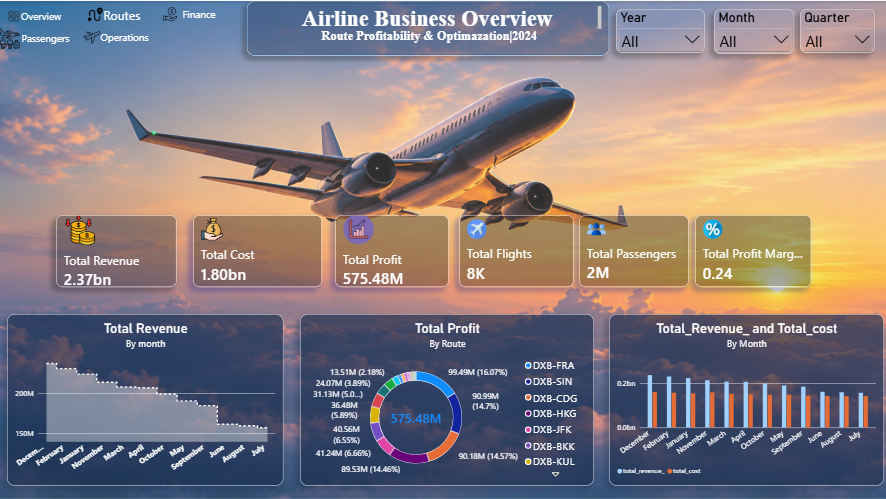

Layout of this report page (visuals, bound fields, positions):
{"tool":"powerbi","page":{"name":"Airline Business Overview","canvas":[1920,1080],"ordinal":0},"visuals":[{"type":"cardVisual","fields":{"Data":["calculation_tbl.total_revenue_"]},"box":[123.1,461.5,260.6,155.6],"z":0},{"type":"actionButton","box":[169,10.6,169,36.1],"z":1000},{"type":"areaChart","title":"Total Revenue","fields":{"Category":["Dim_Date.Month"],"Y":["calculation_tbl.total_revenue_"]},"box":[18.1,676.8,597.2,371],"z":2000},{"type":"actionButton","box":[16.7,12.8,133.6,38.3],"z":3000},{"type":"donutChart","title":"Total Profit","fields":{"Category":["route_details.Route"],"Y":["Average Aircraft Capacity.total_profit"]},"box":[649.7,676.8,635.2,371],"z":4000},{"type":"image","box":[2.1,17,59.7,31.3],"z":5000},{"type":"clusteredColumnChart","title":"Total_Revenue_ and Total_cost","fields":{"Category":["Dim_Date.Month"],"Y":["calculation_tbl.total_revenue_","calculation_tbl.total_cost"]},"box":[1317.4,676.8,593.6,371],"z":6000},{"type":"textbox","box":[47.1,18.1,90.5,34.4],"z":7000},{"type":"cardVisual","fields":{"Data":["calculation_tbl.total_cost"]},"box":[418,461.5,278.7,155.6],"z":8000},{"type":"actionButton","box":[348.5,10.6,169,36.1],"z":9000},{"type":"cardVisual","fields":{"Data":["calculation_tbl.total_passengers"]},"box":[1252.3,461.5,237.1,155.6],"z":10000},{"type":"actionButton","box":[175.5,57.9,173.2,40.4],"z":11000},{"type":"shape","box":[535.7,0,781.8,117.6],"z":12000,"group":"g1"},{"type":"cardVisual","fields":{"Data":["calculation_tbl.total_flights"]},"box":[993.5,461.5,247.9,155.6],"z":12000},{"type":"textbox","box":[557.4,10.9,743.8,52.5],"z":13000,"group":"g1"},{"type":"actionButton","box":[10.4,63.8,139.8,48.9],"z":13000},{"type":"textbox","box":[649.7,59.7,535.7,32.6],"z":14000,"group":"g1"},{"type":"cardVisual","fields":{"Data":["calculation_tbl.total_profit"]},"box":[725.7,461.5,246.1,155.6],"z":14000},{"type":"textbox","box":[217.2,12.7,92.3,38],"z":15000},{"type":"cardVisual","fields":{"Data":["calculation_tbl.total_profit_margin"]},"box":[1503.8,461.5,251.5,155.6],"z":16000},{"type":"image","box":[187.8,10.6,39.7,36.1],"z":17000},{"type":"slicer","fields":{"Values":["Dim_Date.Year"]},"box":[1331.9,16.3,193.6,63.3],"z":18000},{"type":"textbox","box":[367.4,12.7,129.4,38.3],"z":19000},{"type":"slicer","fields":{"Values":["Dim_Date.Month"]},"box":[1543.6,16.3,173.7,63.3],"z":20000},{"type":"image","box":[352.7,0,35.5,57.4],"z":21000},{"type":"slicer","fields":{"Values":["Dim_Date.Quarter"]},"box":[1730,18.1,162.9,63.3],"z":22000},{"type":"textbox","box":[19.9,65.1,141.9,31.9],"z":23000},{"type":"image","box":[0,49.7,45.4,62.6],"z":24000},{"type":"group","id":"g1","title":"Group 2","box":[535.7,0,781.8,117.6],"z":25000},{"type":"textbox","box":[208.1,63.3,119,34],"z":26000},{"type":"image","box":[175.5,61.5,52.5,36.2],"z":27000}]}

Visuals, with their boxes in screenshot pixels (x1, y1, x2, y2), scaled from the page's 1920x1080 canvas onto the 886x499 screenshot:
cardVisual - calculation_tbl.total_revenue_: {"x1": 57, "y1": 213, "x2": 177, "y2": 285}
actionButton: {"x1": 78, "y1": 5, "x2": 156, "y2": 22}
"Total Revenue" areaChart: {"x1": 8, "y1": 313, "x2": 284, "y2": 484}
actionButton: {"x1": 8, "y1": 6, "x2": 69, "y2": 24}
"Total Profit" donutChart: {"x1": 300, "y1": 313, "x2": 593, "y2": 484}
image: {"x1": 1, "y1": 8, "x2": 29, "y2": 22}
"Total_Revenue_ and Total_cost" clusteredColumnChart: {"x1": 608, "y1": 313, "x2": 882, "y2": 484}
textbox: {"x1": 22, "y1": 8, "x2": 63, "y2": 24}
cardVisual - calculation_tbl.total_cost: {"x1": 193, "y1": 213, "x2": 321, "y2": 285}
actionButton: {"x1": 161, "y1": 5, "x2": 239, "y2": 22}
cardVisual - calculation_tbl.total_passengers: {"x1": 578, "y1": 213, "x2": 687, "y2": 285}
actionButton: {"x1": 81, "y1": 27, "x2": 161, "y2": 45}
shape: {"x1": 247, "y1": 0, "x2": 608, "y2": 54}
cardVisual - calculation_tbl.total_flights: {"x1": 458, "y1": 213, "x2": 573, "y2": 285}
textbox: {"x1": 257, "y1": 5, "x2": 600, "y2": 29}
actionButton: {"x1": 5, "y1": 29, "x2": 69, "y2": 52}
textbox: {"x1": 300, "y1": 28, "x2": 547, "y2": 43}
cardVisual - calculation_tbl.total_profit: {"x1": 335, "y1": 213, "x2": 448, "y2": 285}
textbox: {"x1": 100, "y1": 6, "x2": 143, "y2": 23}
cardVisual - calculation_tbl.total_profit_margin: {"x1": 694, "y1": 213, "x2": 810, "y2": 285}
image: {"x1": 87, "y1": 5, "x2": 105, "y2": 22}
slicer - Dim_Date.Year: {"x1": 615, "y1": 8, "x2": 704, "y2": 37}
textbox: {"x1": 170, "y1": 6, "x2": 229, "y2": 24}
slicer - Dim_Date.Month: {"x1": 712, "y1": 8, "x2": 792, "y2": 37}
image: {"x1": 163, "y1": 0, "x2": 179, "y2": 27}
slicer - Dim_Date.Quarter: {"x1": 798, "y1": 8, "x2": 873, "y2": 38}
textbox: {"x1": 9, "y1": 30, "x2": 75, "y2": 45}
image: {"x1": 0, "y1": 23, "x2": 21, "y2": 52}
"Group 2" group: {"x1": 247, "y1": 0, "x2": 608, "y2": 54}
textbox: {"x1": 96, "y1": 29, "x2": 151, "y2": 45}
image: {"x1": 81, "y1": 28, "x2": 105, "y2": 45}
